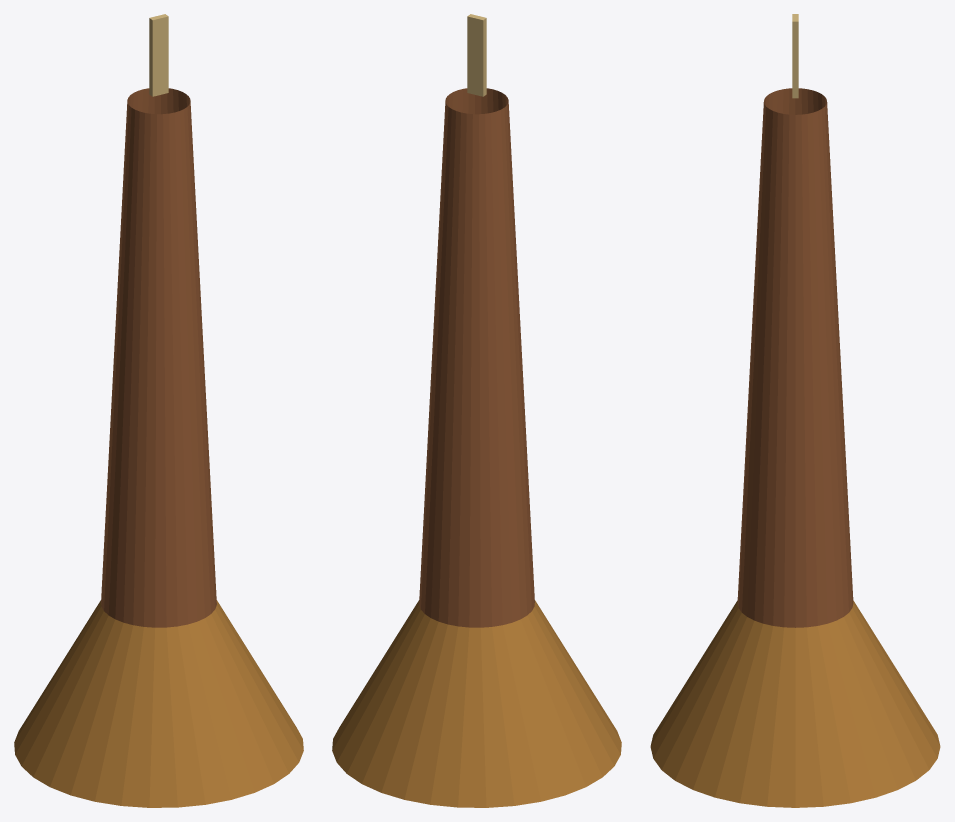
The model's file is demo.glb.
3 renders of one model, left to right at view 1: azimuth 30°, elevation 25°; view 2: azimuth 150°, elevation 25°; view 3: azimuth 270°, elevation 25°, orthographic.
Visible parts, largest first — view 1: body, bell, reed; view 2: body, bell, reed; view 3: body, bell, reed.
Part boxes in pixels (x1,y1,x2,y2): body: (101, 88, 216, 627); bell: (14, 600, 303, 807); reed: (149, 14, 168, 96); body: (419, 88, 534, 627); bell: (332, 600, 621, 807); reed: (467, 14, 486, 96); body: (737, 88, 853, 627); bell: (650, 600, 940, 807); reed: (792, 14, 798, 98).
Bounding box in the file's own units: 1.1 × 3.05 × 1.1.
